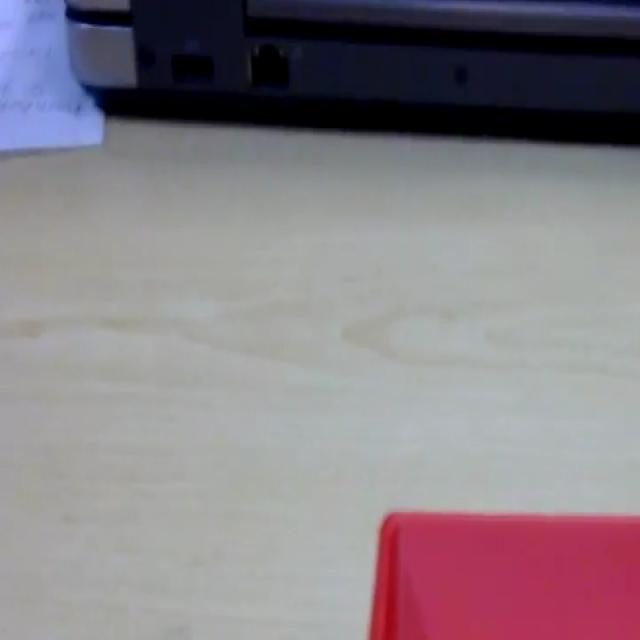red_block: (368, 507, 638, 637)
